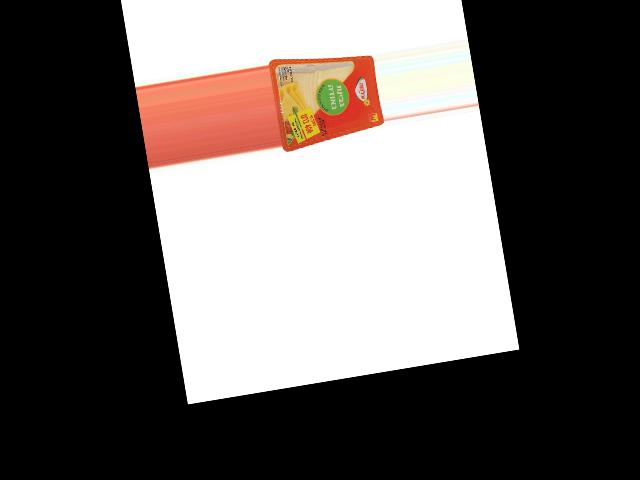cheese: (267, 43, 385, 152)
